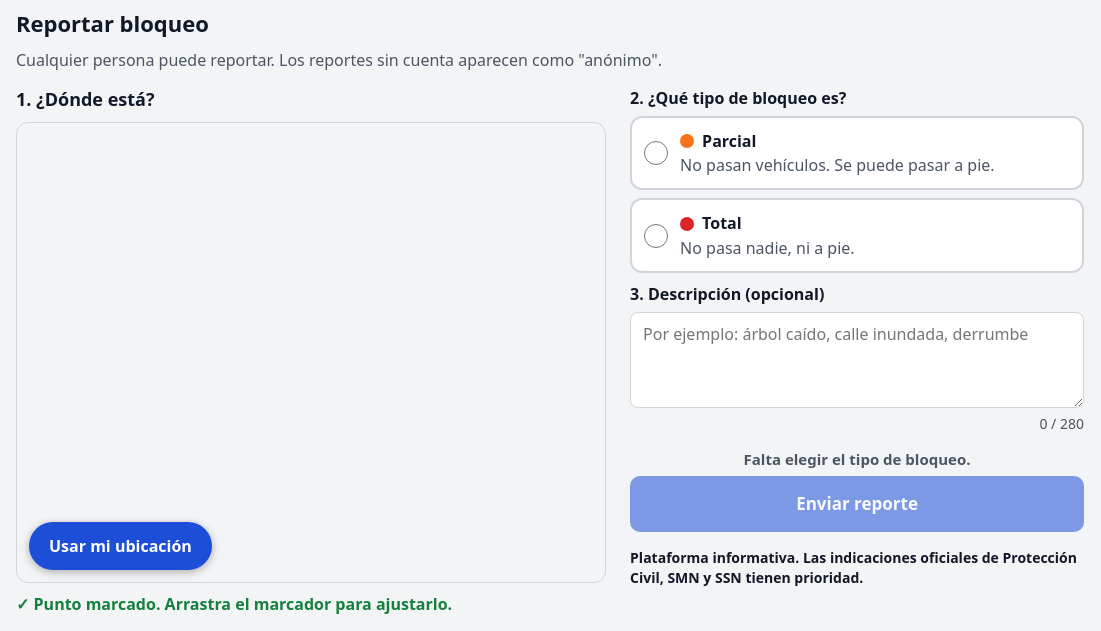
Test: ReportarBloqueo › crea sesión anónima y envía [longitud, latitud] del punto tocado
Click the radio button labelled "Total No pasa nadie, ni a pie.". click: (656, 236)
box: [644,224,668,248]
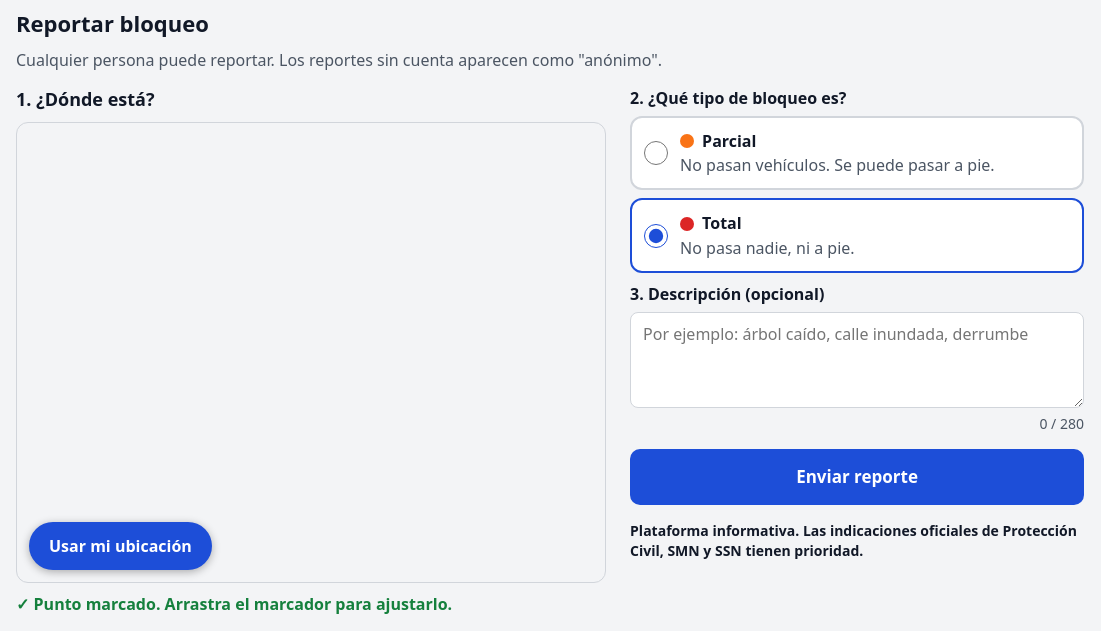
Click the button "Enviar reporte". click: (857, 477)
box: [630,449,1084,505]
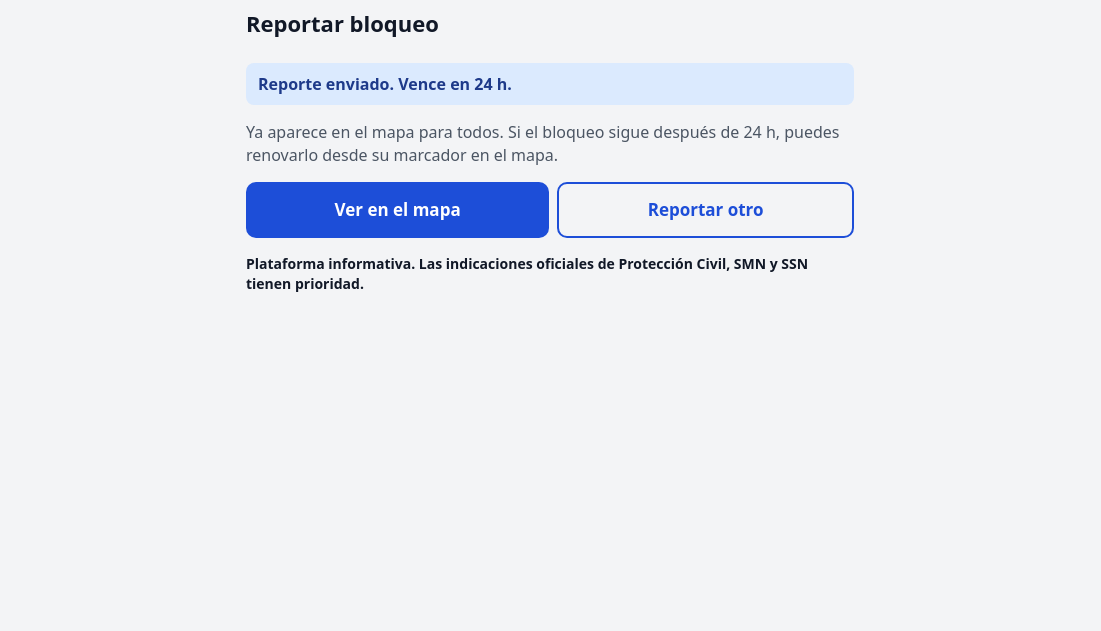
Expected: the text "Reporte enviado. Vence en 24 h." is shown, [258,73,512,95]
